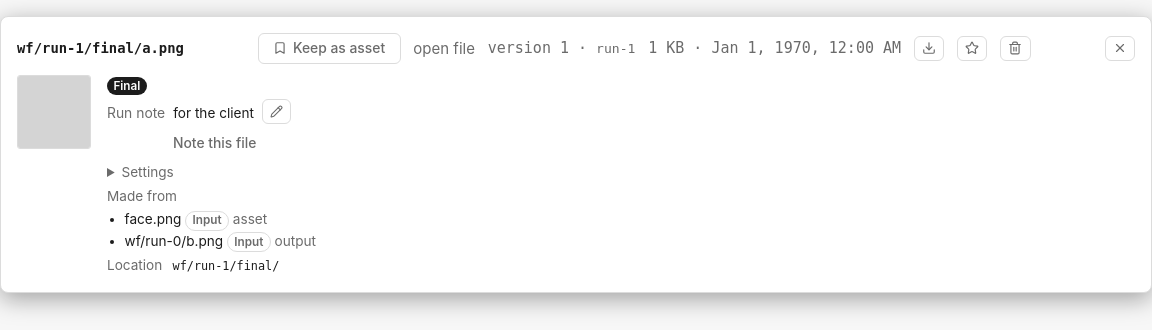
Test case: shows an inherited run note as the run note and offers to note the file
The width and height of the screenshot is (1152, 330).
Expected: the text "Run note" is shown, [107,103,165,124]
Expected: the text "for the client" is shown, [173,103,254,123]
Click the button "Note this file" at (215, 143), box [107,128,322,158]
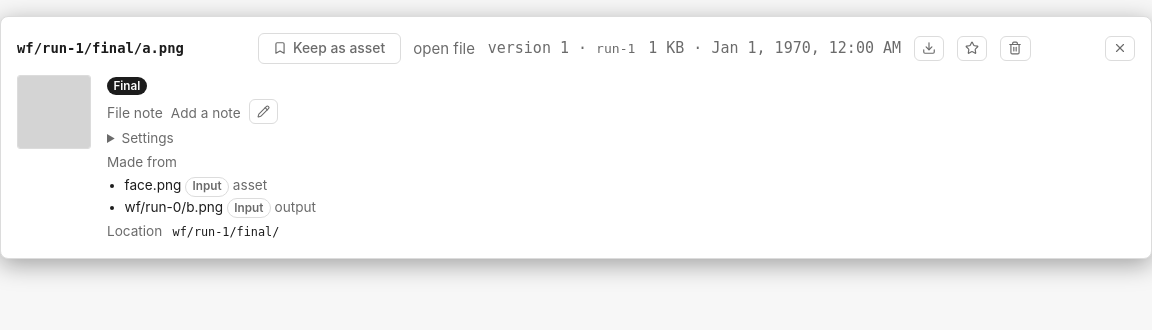
Expected: the text "File note" is shown, [107,103,163,124]
Expected: the text "for the client" is gone
